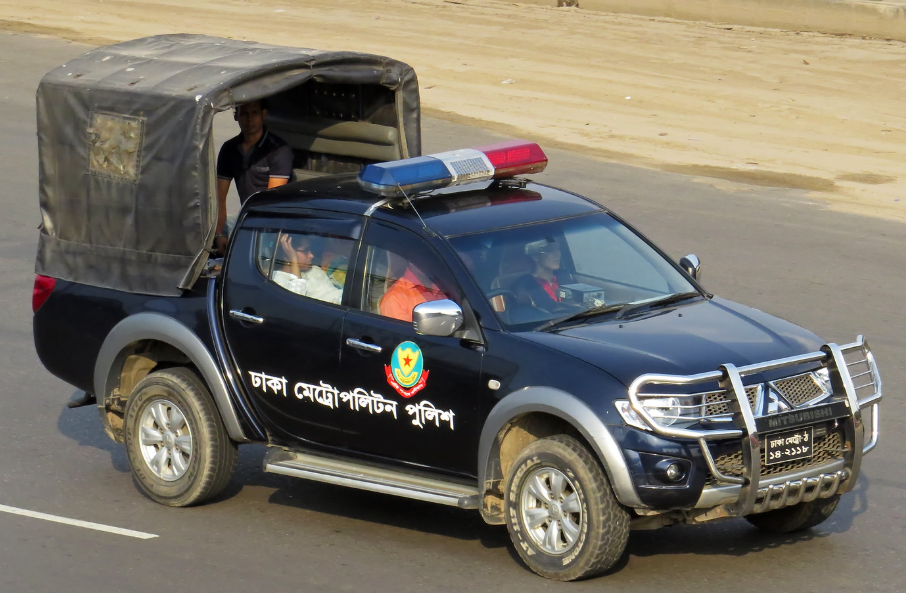Police cars: (30, 27, 902, 579)
